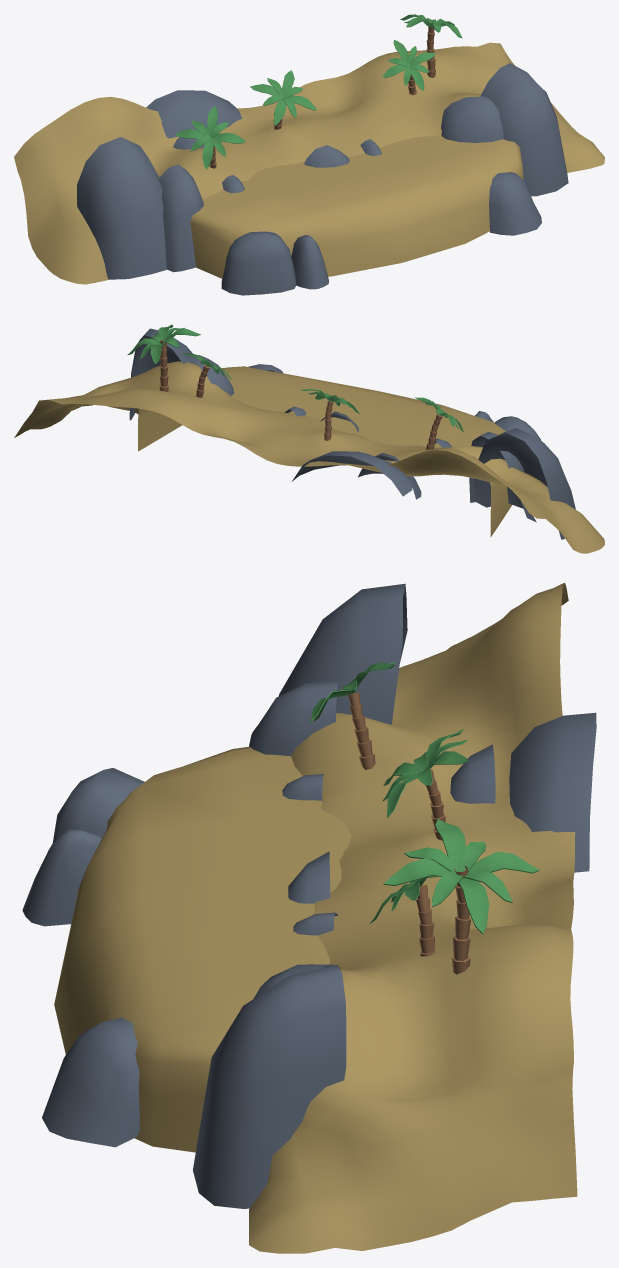
Rendered from new_ocean_isl.fbx.
3 views of the same model, one above another, from view 1: azimuth 30°, elevation 25°; view 2: azimuth 150°, elevation 25°; view 3: azimuth 270°, elevation 25° (orthographic). The views are drawn at different scales.
Visible parts, largest first — view 1: остров круглый, остров круглый.002, остров круглый.001, остров круглый.003; view 2: остров круглый, остров круглый.002; view 3: остров круглый, остров круглый.001, остров круглый.003, остров круглый.002.
Boxes of the visible parts, x1,y1,x2,y2 form: остров круглый: (14, 14, 604, 284); остров круглый.002: (221, 231, 296, 295); остров круглый.001: (489, 172, 541, 235); остров круглый.003: (291, 235, 328, 289); остров круглый: (14, 324, 604, 553); остров круглый.002: (494, 416, 540, 439); остров круглый: (54, 582, 596, 1253); остров круглый.001: (42, 1017, 139, 1147); остров круглый.003: (22, 829, 102, 926); остров круглый.002: (52, 768, 144, 843).
Bounding box in the file's own units: 4214 × 1098 × 1947.
